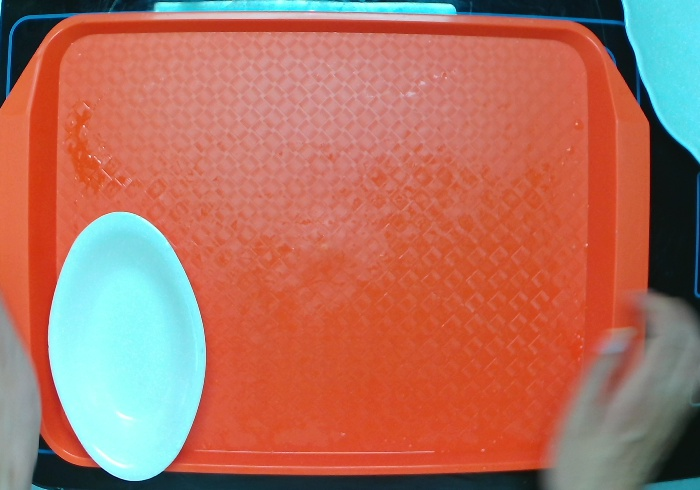RJxy-Bai_Se_Tuo_Yuan: (37, 204, 213, 484)
